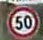limite 50: (6, 6, 40, 38)
